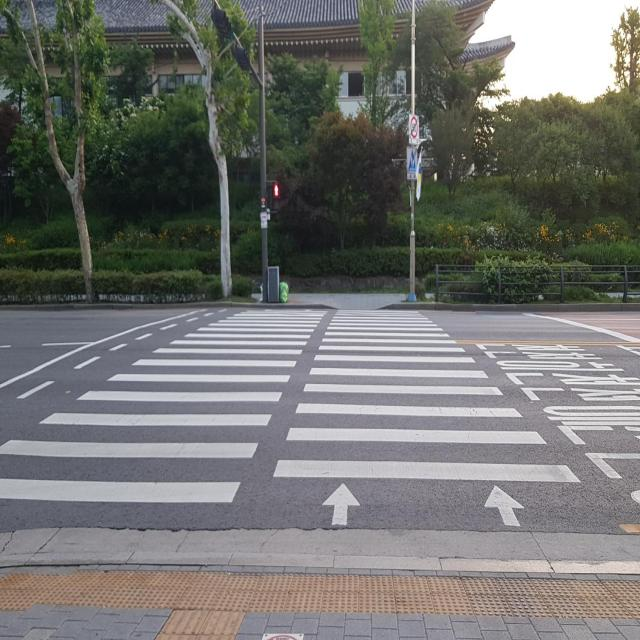빨간불: (270, 181, 282, 219)
횡단보도: (0, 306, 582, 529)
